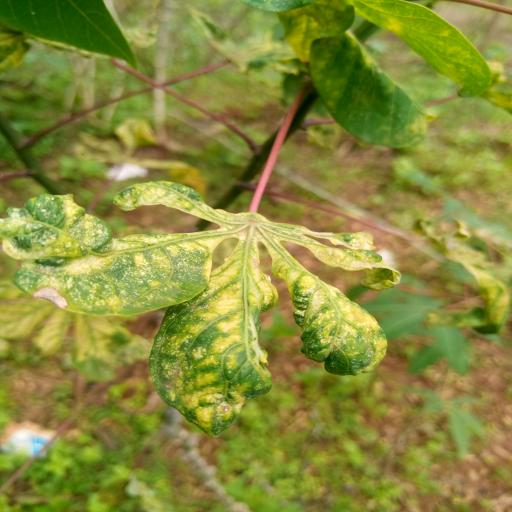Cassava_Mosaic: (0, 176, 401, 443)
